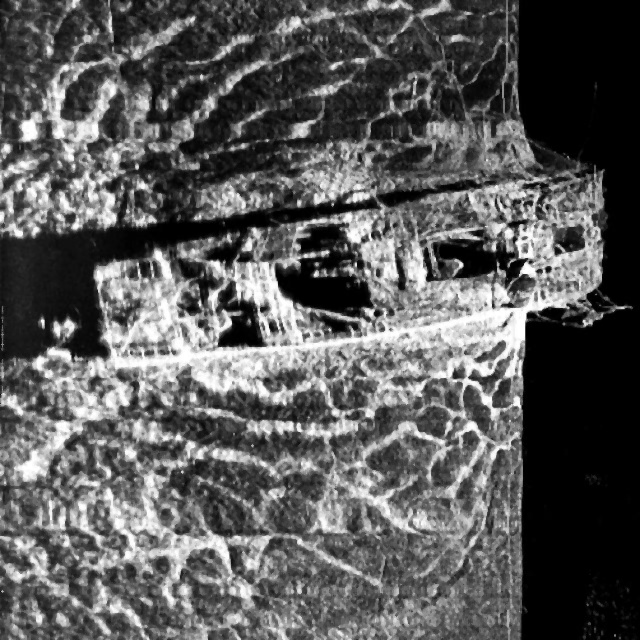Ship: (73, 132, 632, 375)
